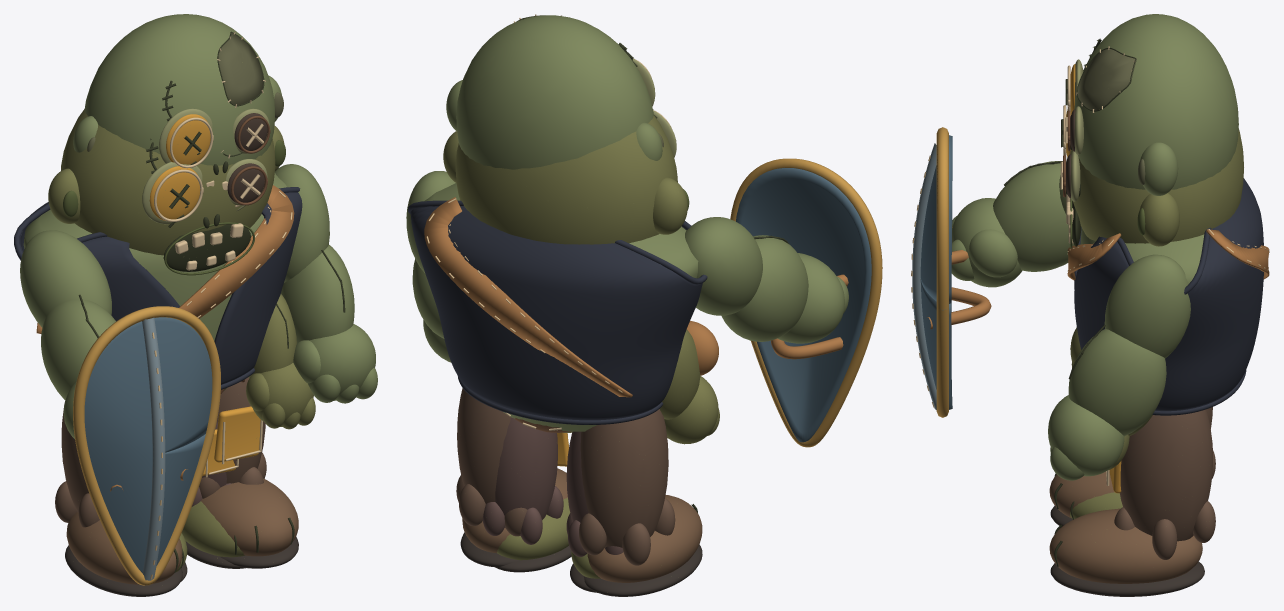
Rendered from garden-wall.glb.
The picture shows the model from 3 angles, left to right: view 1: azimuth 30°, elevation 25°; view 2: azimuth 150°, elevation 25°; view 3: azimuth 270°, elevation 25°; orthographic projection. The views are drawn at different scales.
Parts seen in each view (by area): view 1: shielded / Mesh / Head.001, Mesh / Head, denim kite shield, shielded / Mesh / ArmR.001, shielded / Mesh / ArmL.001, shielded / Mesh / LegR.001, tailored navy vest, mustard rolled shield rim, shielded / Mesh / LegL.001, Mesh / ArmR, broad stitched bandolier, broad shoulder chest (+3 smaller); view 2: tailored navy vest, shielded / Mesh / Head.001, Mesh / Head, shielded / Mesh / LegL.001, denim kite shield, shielded / Mesh / ArmL.001, Mesh / LegR, shielded / Mesh / LegR.001, broad stitched bandolier.001, mustard rolled shield rim, Mesh / ArmL, shielded / Mesh / ArmR.001 (+6 smaller); view 3: shielded / Mesh / Head.001, shielded / Mesh / LegR.001, shielded / Mesh / ArmR.001, tailored navy vest, Mesh / Head, shielded / Mesh / ArmL.001, mustard rolled shield rim, denim kite shield, raised kite ridge, shielded / Mesh / LegL.001, broad shoulder chest, broad stitched bandolier.001 (+5 smaller).
Boxes of the visible parts, left/top/right/bottom form: shielded / Mesh / Head.001: left=73, top=14, right=283, bottom=211; Mesh / Head: left=48, top=109, right=285, bottom=275; denim kite shield: left=84, top=317, right=212, bottom=572; shielded / Mesh / ArmR.001: left=274, top=164, right=377, bottom=403; shielded / Mesh / ArmL.001: left=20, top=230, right=115, bottom=438; shielded / Mesh / LegR.001: left=199, top=377, right=298, bottom=568; tailored navy vest: left=20, top=192, right=302, bottom=384; mustard rolled shield rim: left=73, top=306, right=220, bottom=585; shielded / Mesh / LegL.001: left=55, top=402, right=182, bottom=596; Mesh / ArmR: left=246, top=294, right=315, bottom=429; broad stitched bandolier: left=179, top=185, right=294, bottom=318; broad shoulder chest: left=23, top=173, right=286, bottom=390; tailored navy vest: left=410, top=206, right=702, bottom=420; shielded / Mesh / Head.001: left=446, top=14, right=663, bottom=169; Mesh / Head: left=443, top=109, right=689, bottom=244; shielded / Mesh / LegL.001: left=579, top=409, right=702, bottom=596; denim kite shield: left=736, top=168, right=871, bottom=442; shielded / Mesh / ArmL.001: left=685, top=217, right=848, bottom=343; Mesh / LegR: left=482, top=417, right=571, bottom=572; shielded / Mesh / LegR.001: left=456, top=388, right=567, bottom=567; broad stitched bandolier.001: left=424, top=197, right=632, bottom=397; mustard rolled shield rim: left=730, top=158, right=882, bottom=447; Mesh / ArmL: left=659, top=329, right=719, bottom=444; shielded / Mesh / ArmR.001: left=406, top=171, right=455, bottom=362; shielded / Mesh / Head.001: left=1065, top=14, right=1238, bottom=196; shielded / Mesh / LegR.001: left=1049, top=409, right=1215, bottom=596; shielded / Mesh / ArmR.001: left=1048, top=254, right=1190, bottom=480; tailored navy vest: left=1074, top=178, right=1263, bottom=411; Mesh / Head: left=1060, top=105, right=1243, bottom=248; shielded / Mesh / ArmL.001: left=951, top=161, right=1074, bottom=287; mustard rolled shield rim: left=936, top=127, right=948, bottom=417; denim kite shield: left=920, top=135, right=952, bottom=409; raised kite ridge: left=912, top=143, right=936, bottom=409; shielded / Mesh / LegL.001: left=1049, top=407, right=1215, bottom=526; broad shoulder chest: left=1080, top=228, right=1204, bottom=283; broad stitched bandolier.001: left=1206, top=229, right=1269, bottom=279.
Size of the model in its own units: 1.6 by 2.21 by 1.33.
